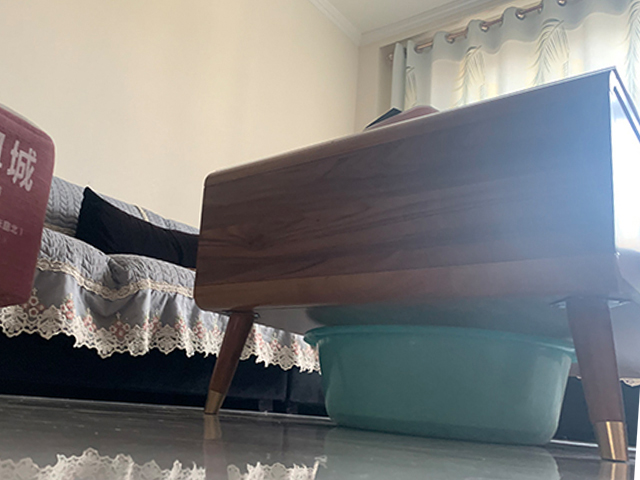sofa: (1, 175, 326, 413)
table: (192, 66, 639, 464)
